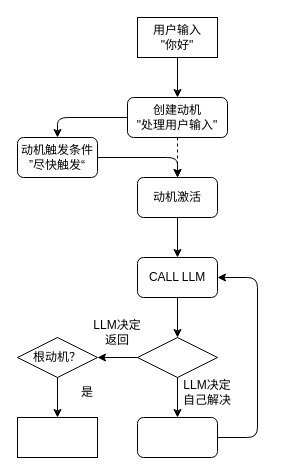
Some shapes in this 283 by 475 pixel diagram are drawn without their labels. Here are the shapes that lost their labels. From the top down, the box of each, then its label:
(136, 336, 218, 378): LLM 回复
(16, 416, 98, 458): END
(136, 416, 218, 458): 工具调用 ”向用户发送“
